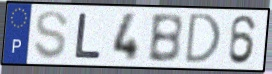4: (111, 11, 143, 64)
6: (227, 13, 258, 67)
B: (146, 12, 185, 65)
D: (183, 12, 223, 66)
L: (73, 11, 103, 61)
S: (32, 9, 70, 62)
